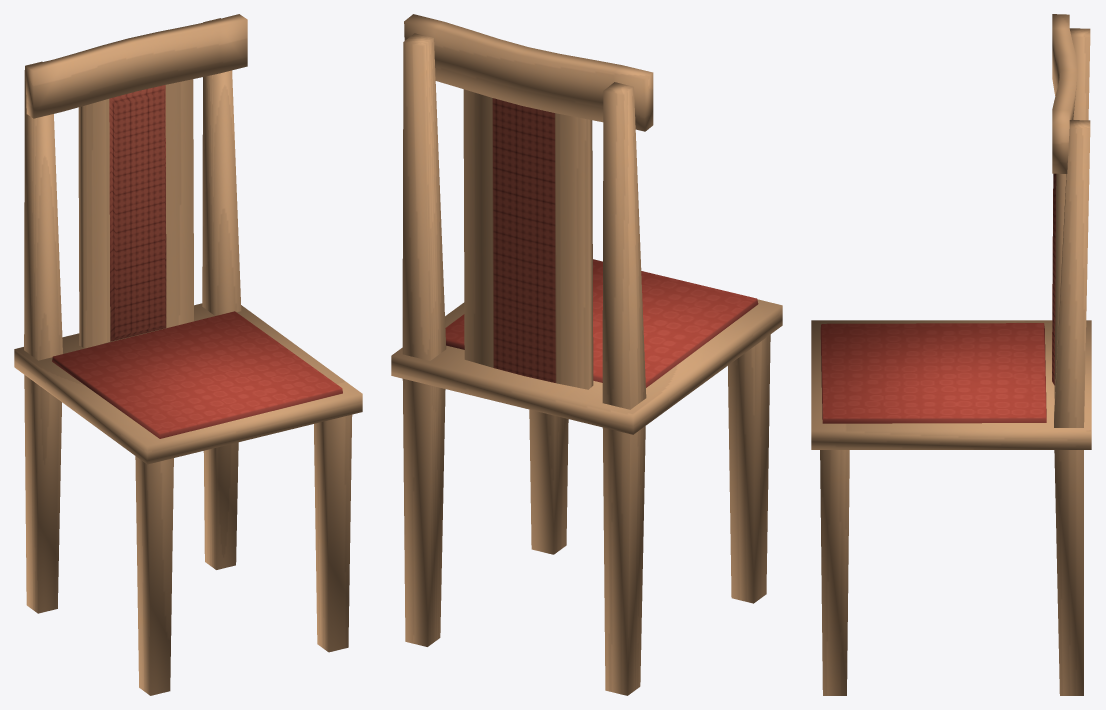
File: стул.fbx
3 renders of one model, left to right at view 1: azimuth 30°, elevation 25°; view 2: azimuth 150°, elevation 25°; view 3: azimuth 270°, elevation 25°, orthographic. The views are drawn at different scales.
Parts seen in each view (by area): view 1: Chair; view 2: Chair; view 3: Chair.
Part boxes in pixels (x1,y1,x2,y2): Chair: [14, 14, 362, 695]; Chair: [391, 14, 782, 695]; Chair: [811, 14, 1091, 695].
Bounding box in the file's own units: 43.59 × 106 × 46.59.
Materials: 1 (1 with a texture image).
